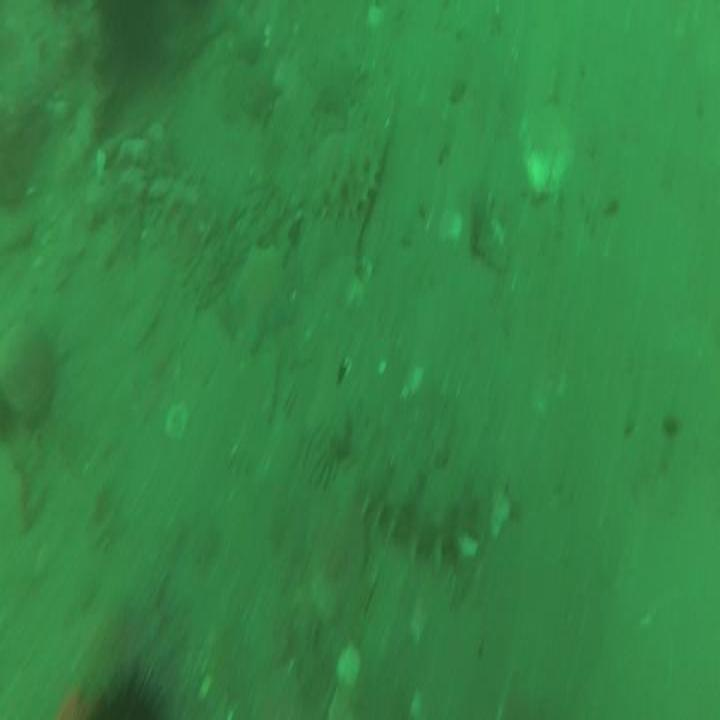holothurian: (359, 453, 471, 560), (306, 160, 376, 215)
scallop: (520, 105, 573, 192)
starfish: (219, 249, 295, 348)
